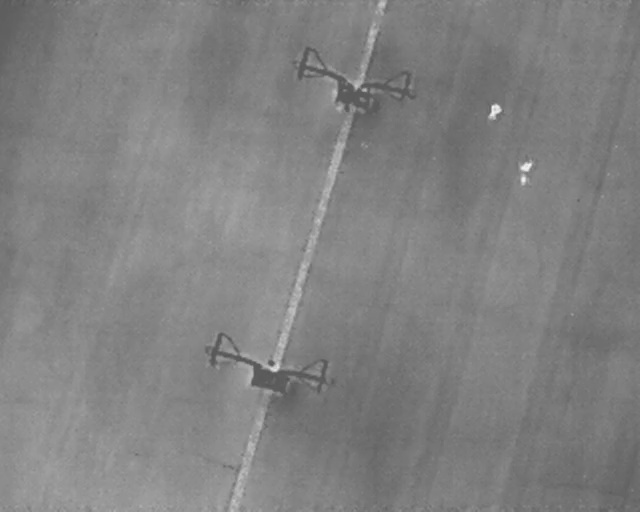Person: (515, 158, 534, 187), (483, 100, 504, 125)
